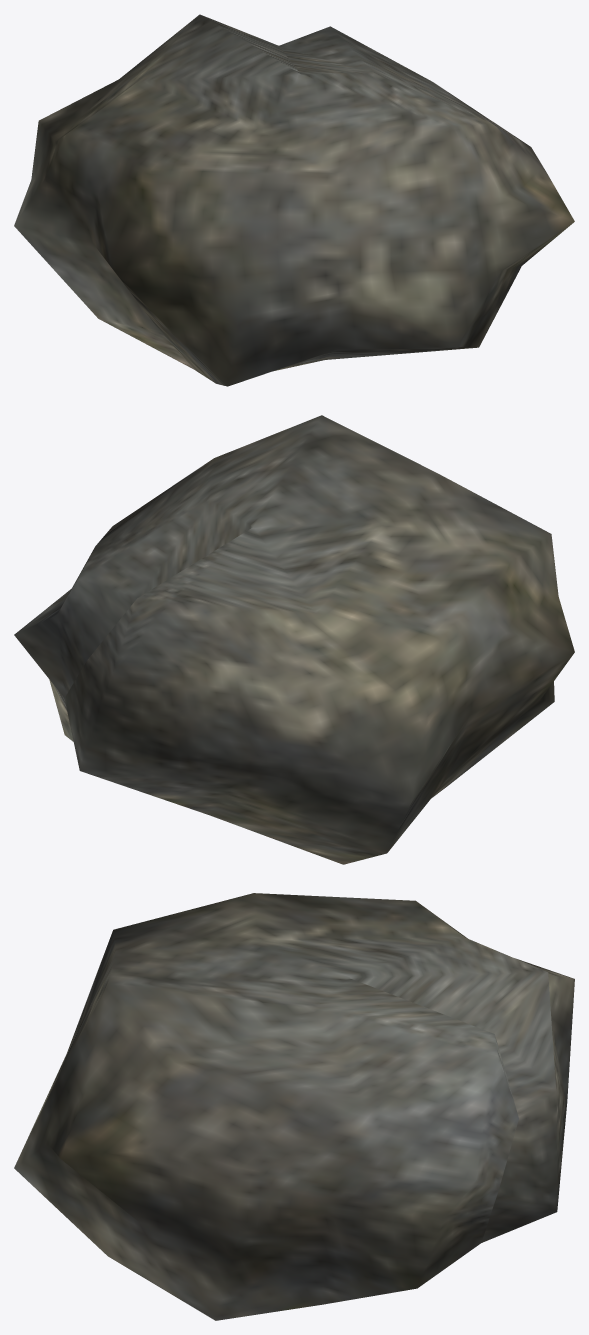
Rendered from dark_rock_002.fbx.
The picture shows the model from 3 angles, top to bottom: view 1: azimuth 30°, elevation 25°; view 2: azimuth 150°, elevation 25°; view 3: azimuth 270°, elevation 25°; orthographic projection. The views are drawn at different scales.
Parts seen in each view (by area): view 1: dark_rock.002; view 2: dark_rock.002; view 3: dark_rock.002.
Boxes of the visible parts, bbox=[...] form: dark_rock.002: bbox=[14, 14, 574, 386]; dark_rock.002: bbox=[14, 415, 574, 864]; dark_rock.002: bbox=[14, 893, 574, 1320].
Size of the model in its own units: 95.09 by 63.61 by 97.09.
